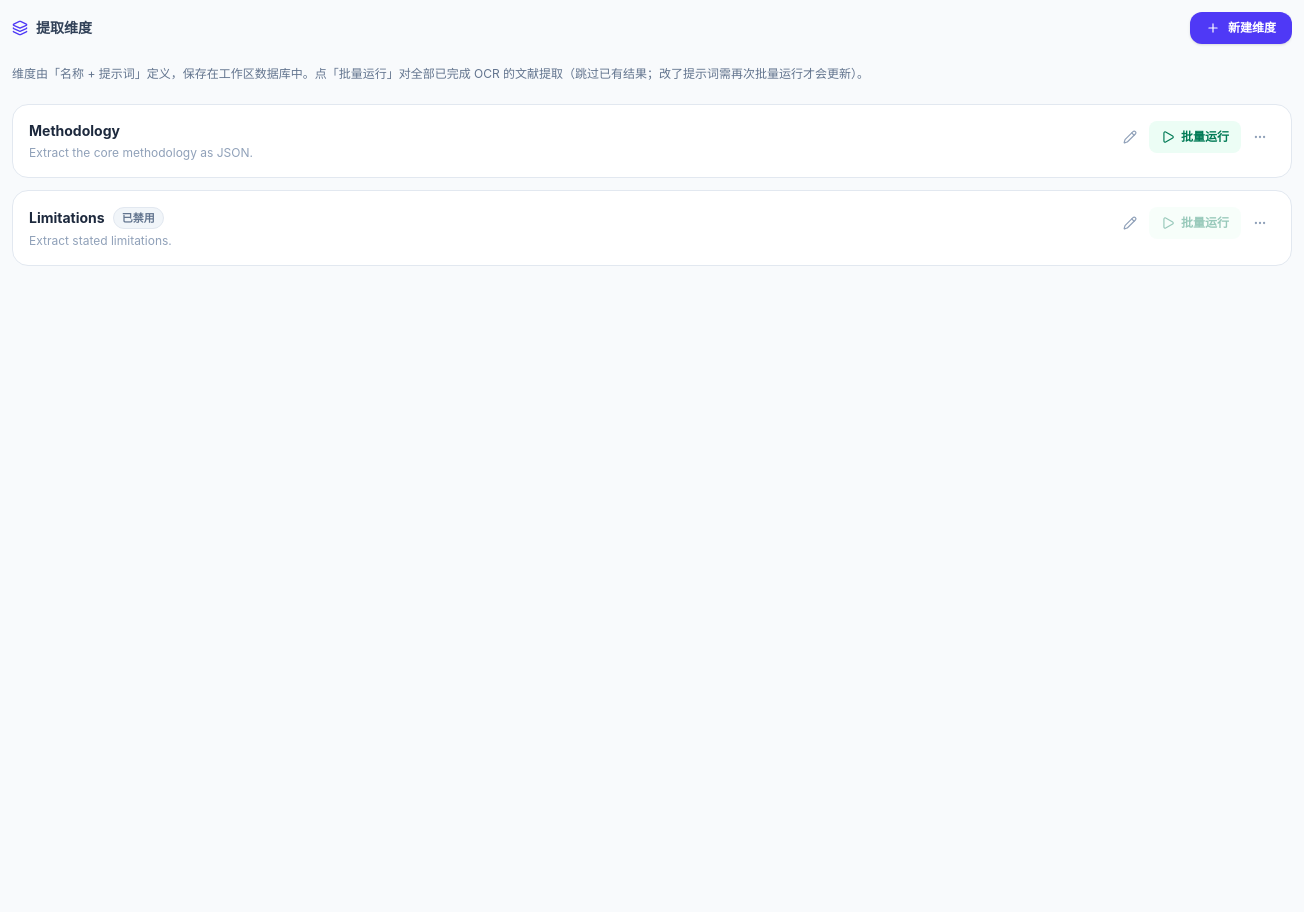
Scenario: DimensionManager Component › shows error banner when save fails (e.g. duplicate label)
The image size is (1304, 912).
Expected: the text "Methodology" is shown, [29,120,120,140]
Click the button "新建维度" at point(1241, 28), box [1190,12,1292,44]
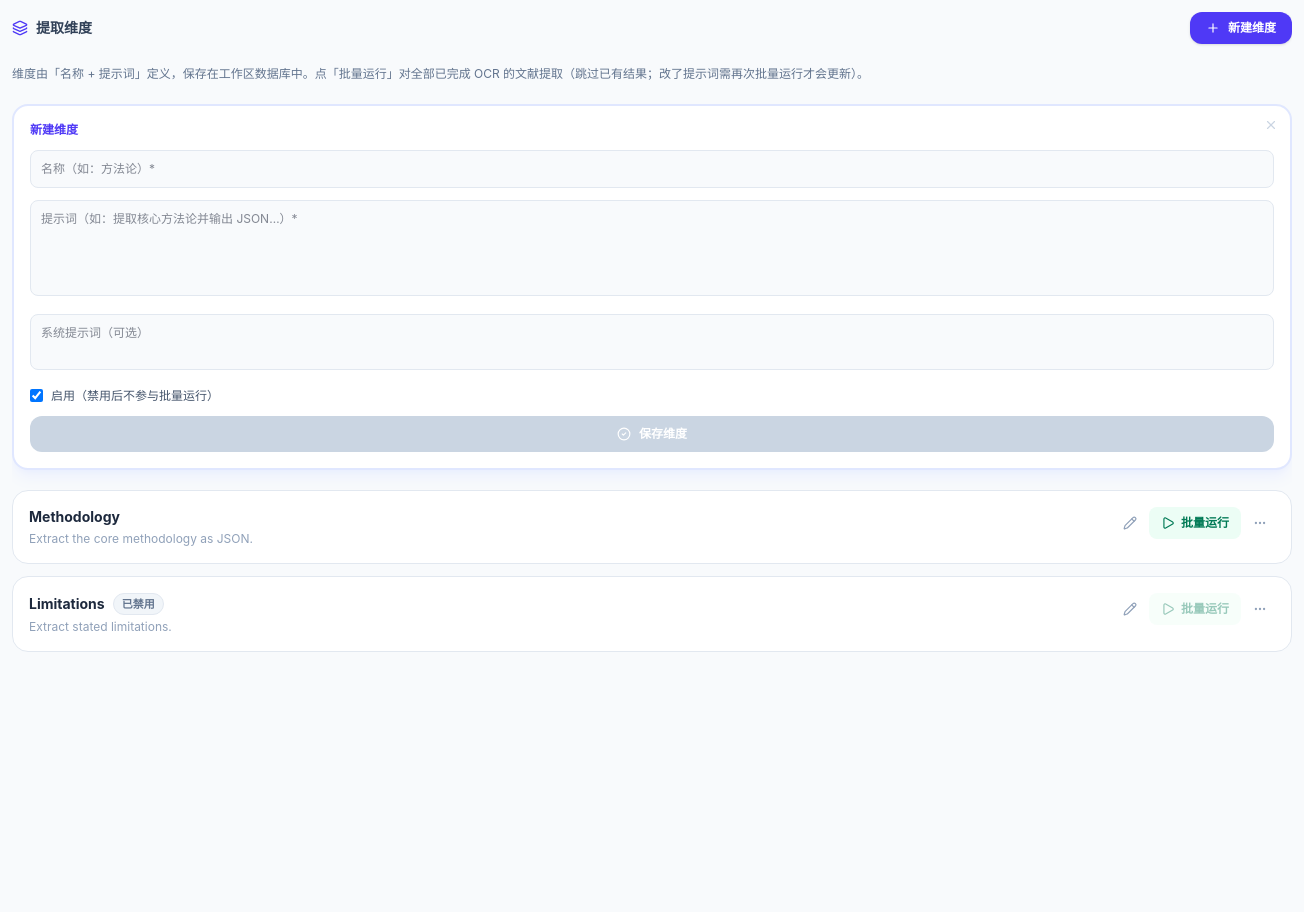
Type "Methodology" into the field named "维度名称" at point(652, 168), box [30,150,1274,188]
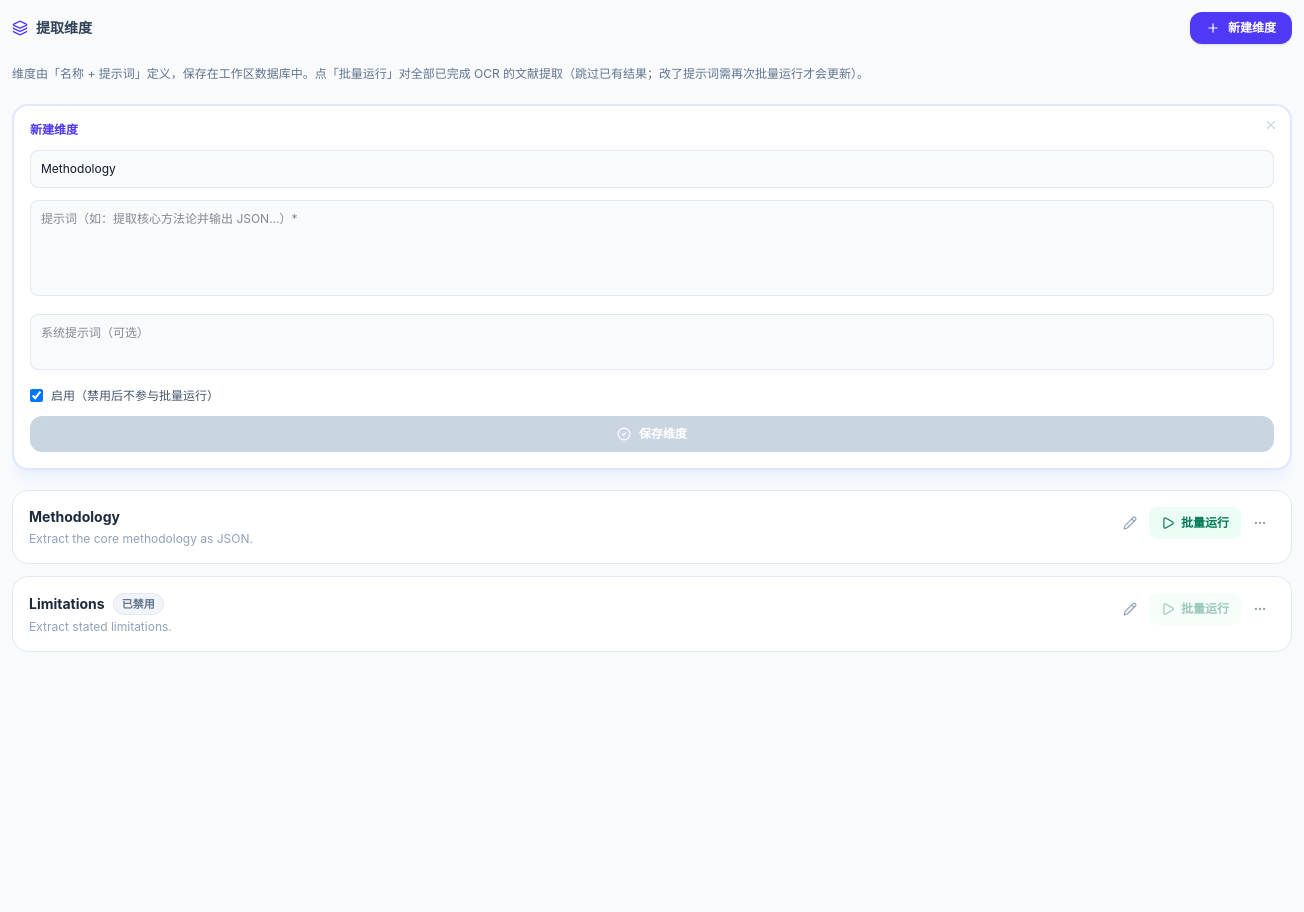
Type "dup" into the text box named "提取提示词" at point(652, 248), box [30,200,1274,296]
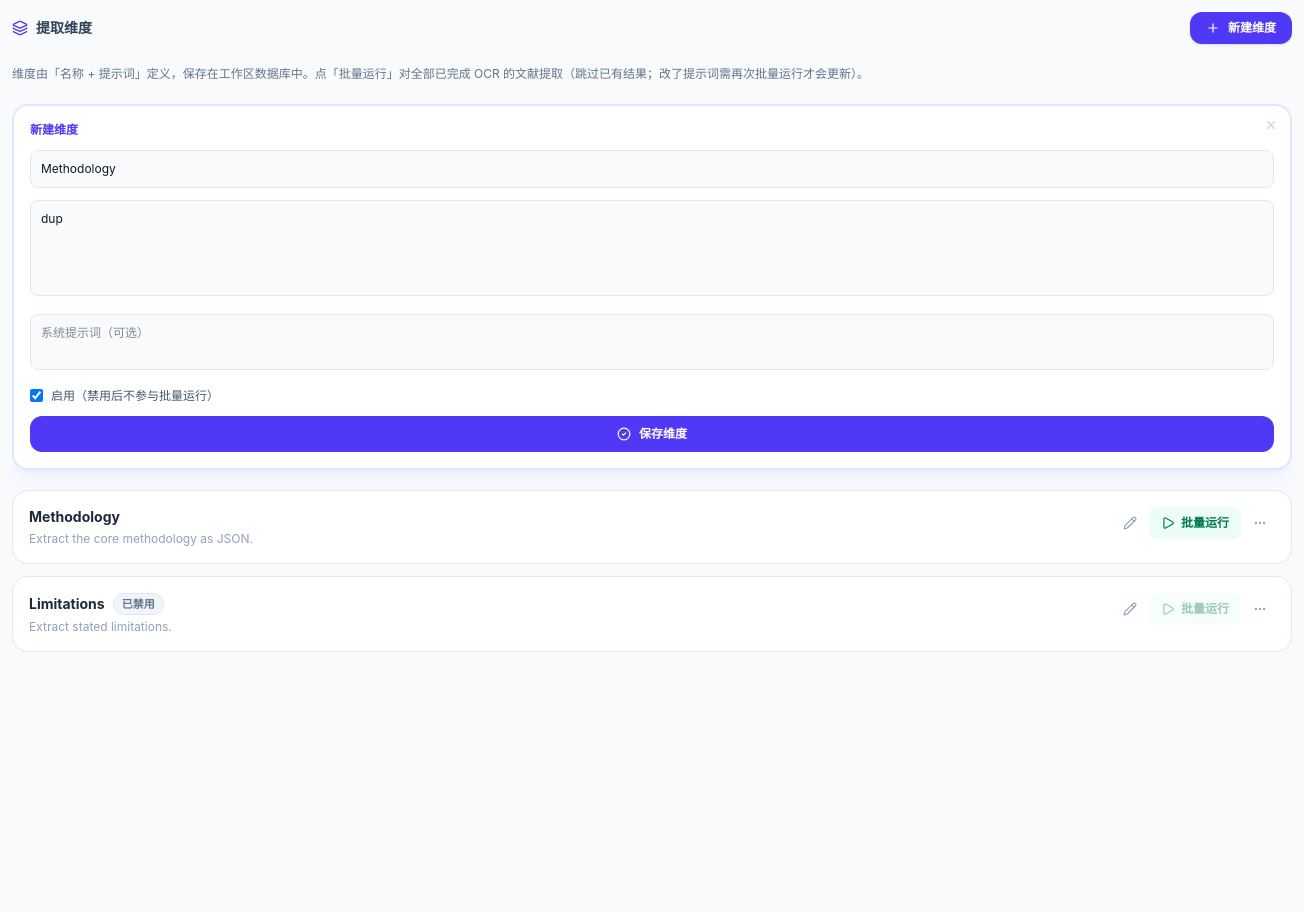
Click the button "保存维度" at point(652, 434), box [30,416,1274,452]
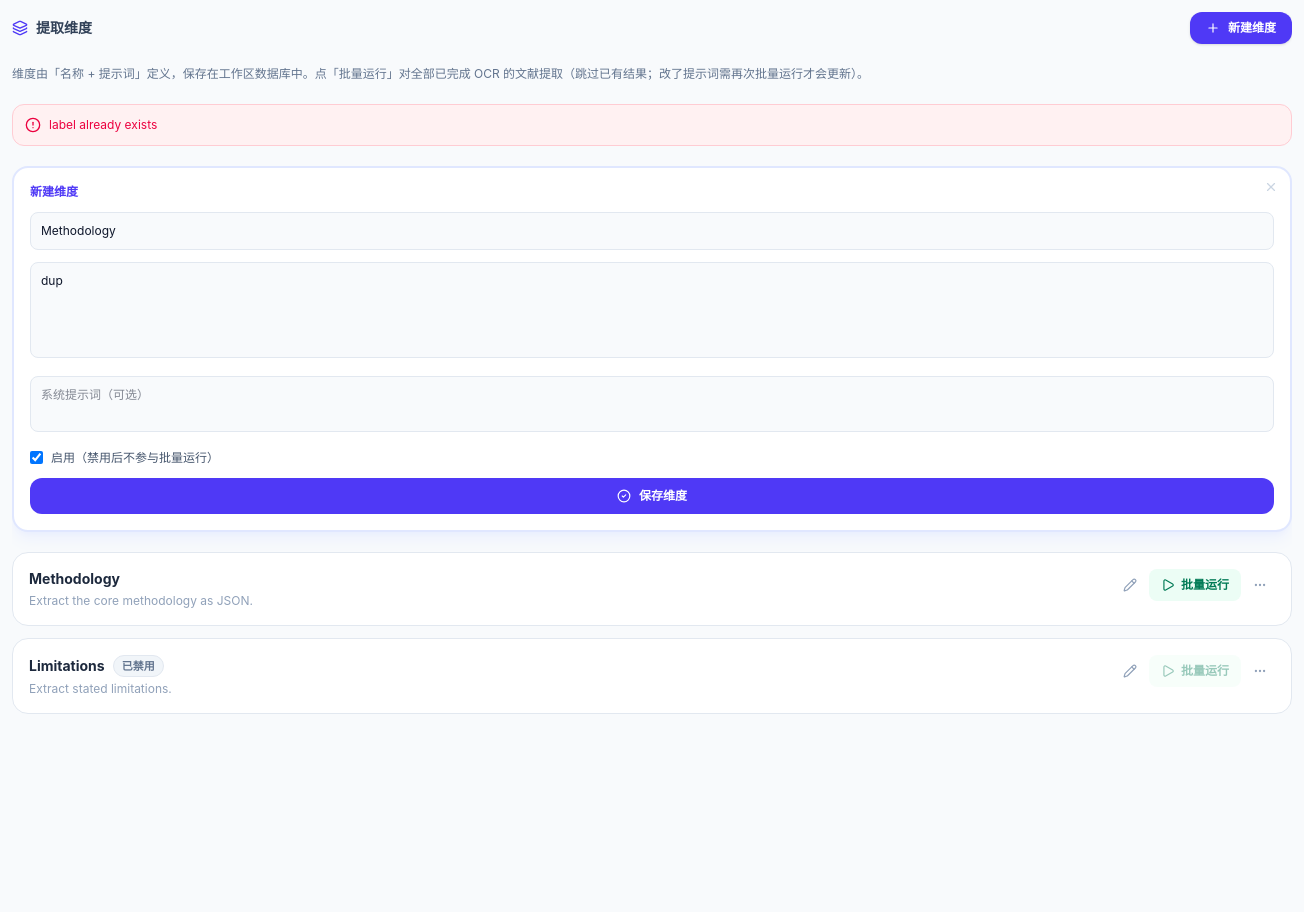
Expected: the text "label already exists" is shown, [12,104,1292,146]
